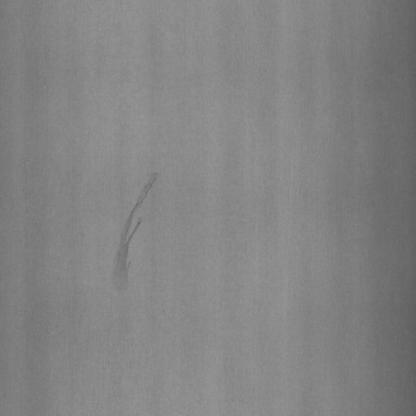water_spot: (110, 161, 166, 305)
